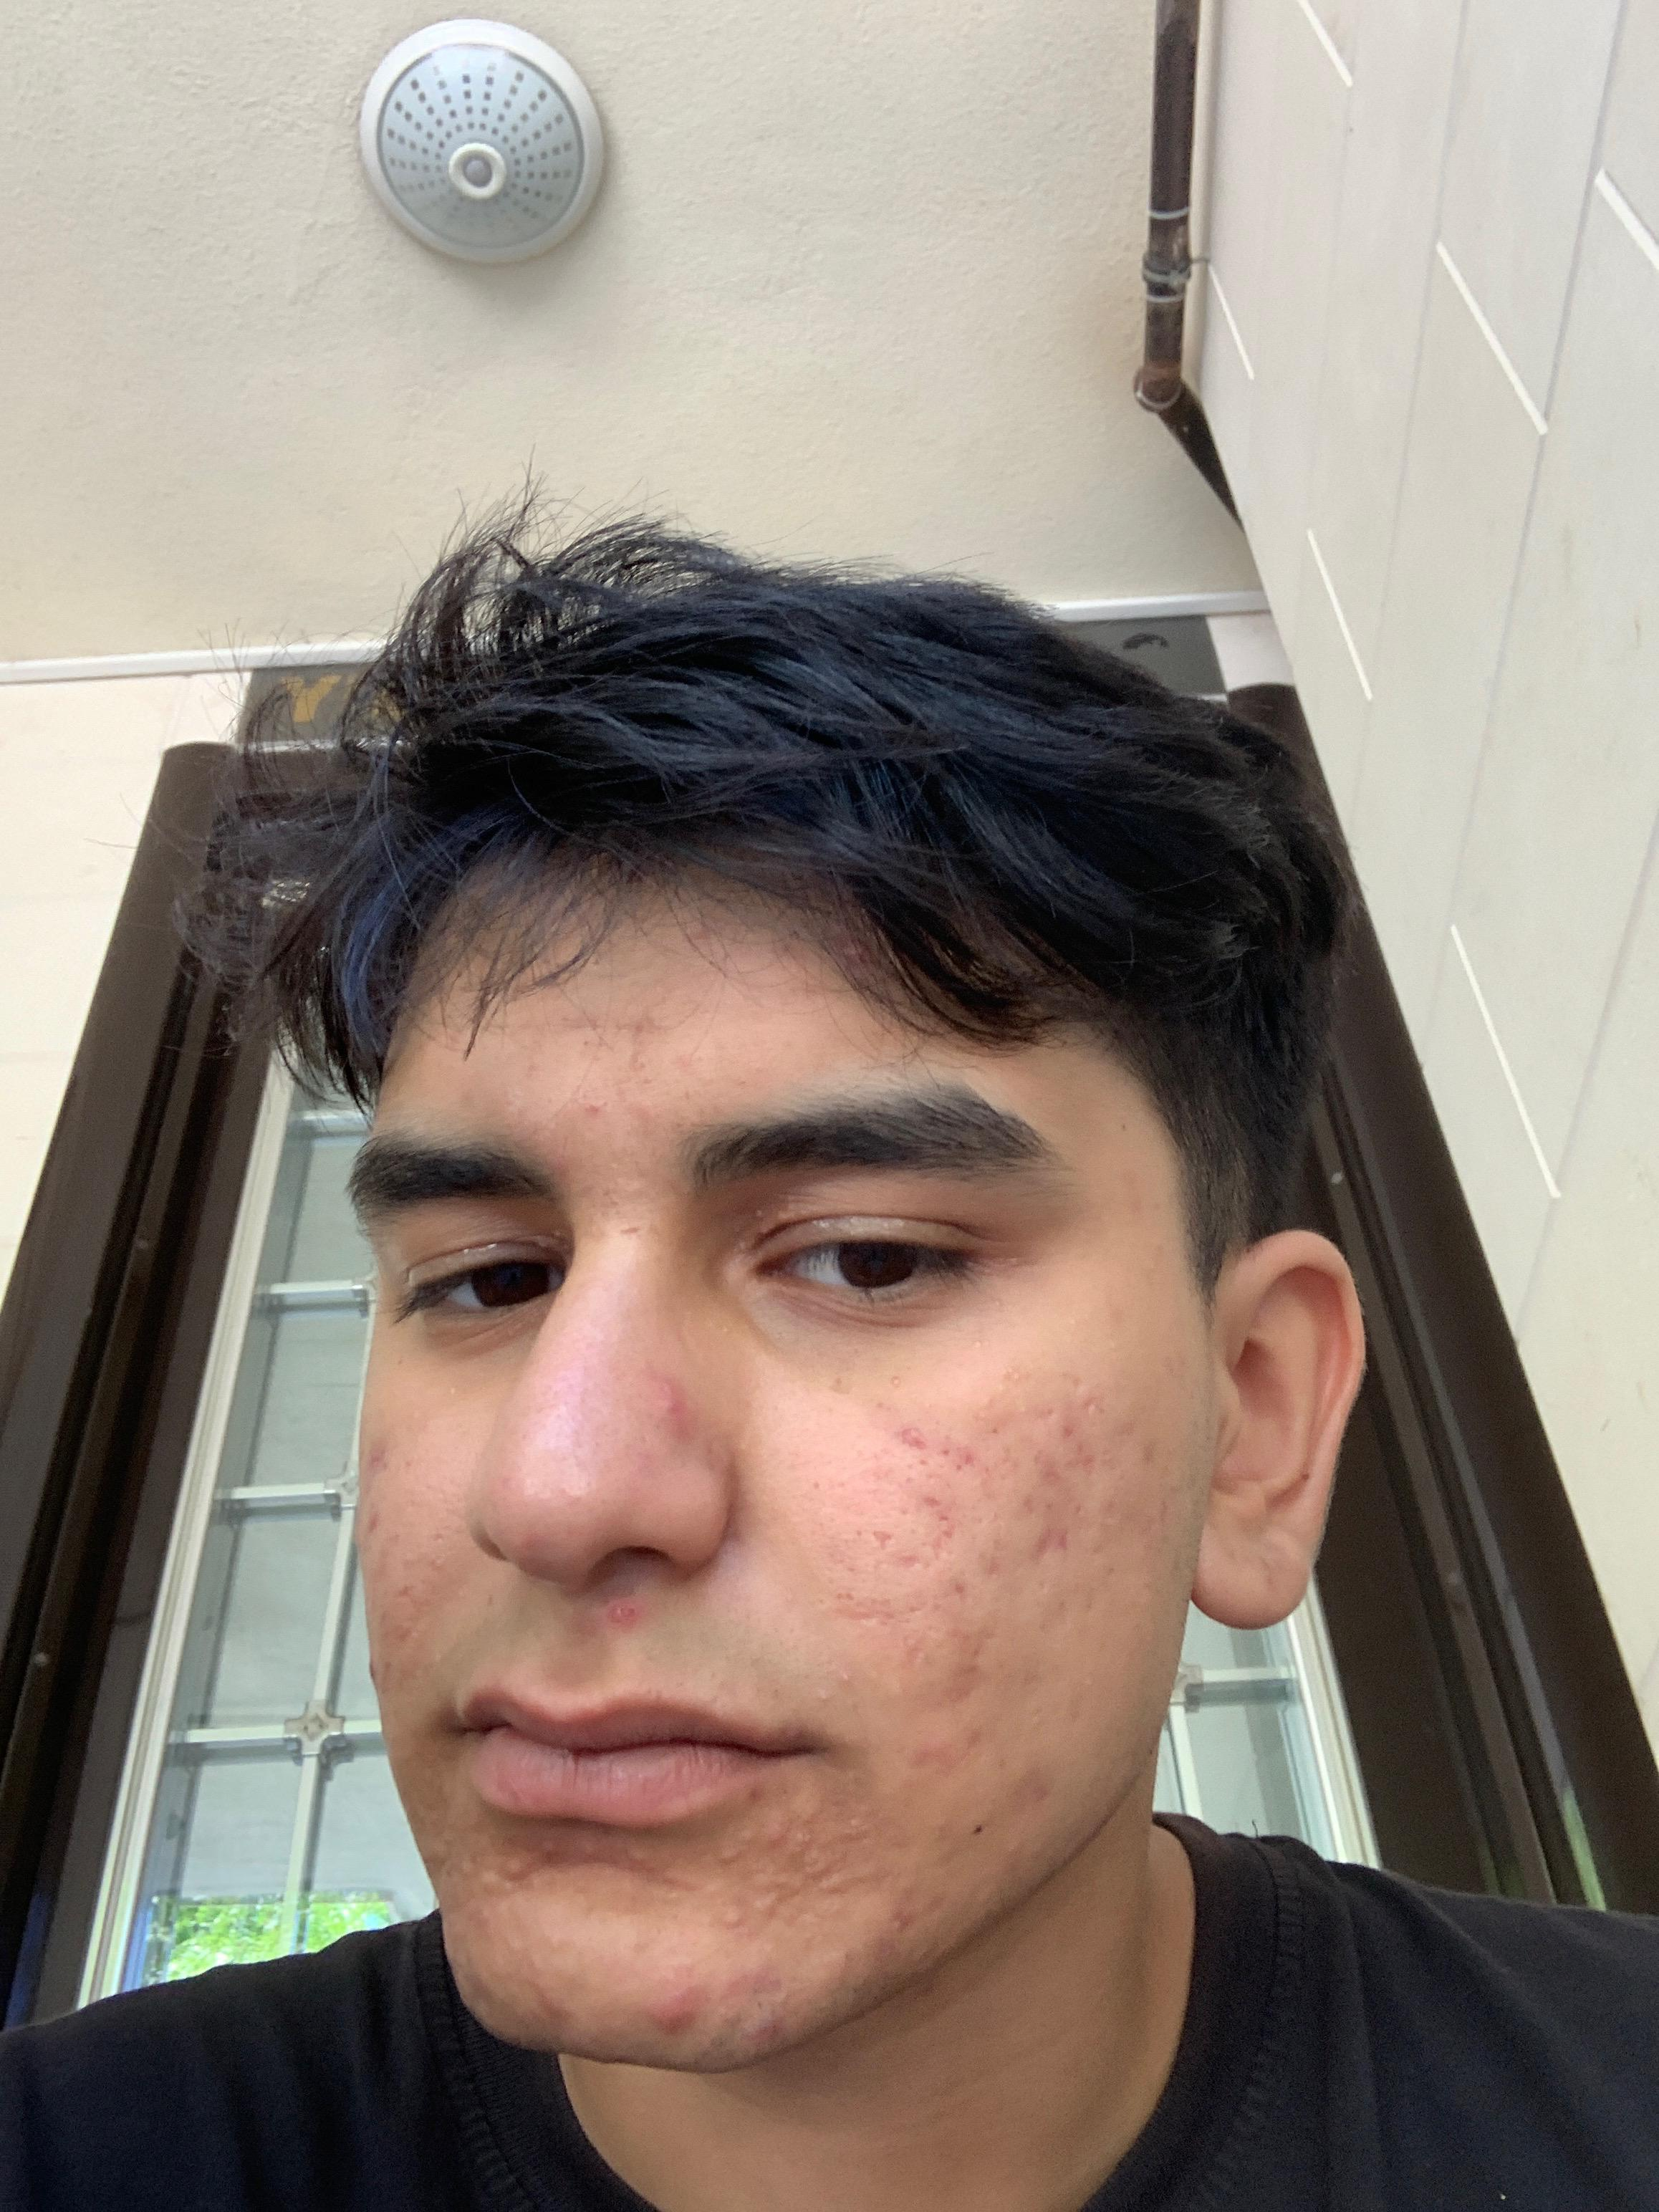Acne: (728, 1801, 868, 1925), (423, 1832, 680, 1898), (582, 1008, 666, 1082), (871, 1886, 971, 1944), (920, 1635, 992, 1710), (1037, 1409, 1098, 1489), (894, 1728, 995, 1775), (711, 1951, 791, 2005), (645, 1352, 692, 1439), (643, 1979, 711, 2033), (584, 1587, 659, 1634), (1002, 1757, 1051, 1822), (1018, 1521, 1086, 1566), (1119, 1409, 1168, 1472), (521, 1972, 584, 2020), (735, 2008, 793, 2054), (913, 1491, 957, 1548), (934, 1562, 979, 1611), (610, 1089, 660, 1132), (1115, 1172, 1145, 1235), (1077, 1372, 1112, 1425), (896, 1414, 932, 1461), (545, 1144, 584, 1186), (1107, 1289, 1136, 1339), (359, 1437, 397, 1474), (355, 1503, 392, 1541), (673, 1052, 709, 1087), (488, 1467, 521, 1503), (823, 1663, 859, 1695), (1140, 1500, 1178, 1529), (939, 1444, 979, 1472), (376, 1648, 404, 1686), (556, 1480, 586, 1515), (359, 1651, 383, 1693), (465, 1898, 497, 1930), (577, 1092, 610, 1122), (868, 1526, 896, 1557), (359, 1468, 380, 1493)
Englarged-Pores: (814, 1432, 1033, 1613), (364, 1538, 455, 1653), (516, 1364, 601, 1458)
Wrinkles: (458, 1017, 676, 1040)
